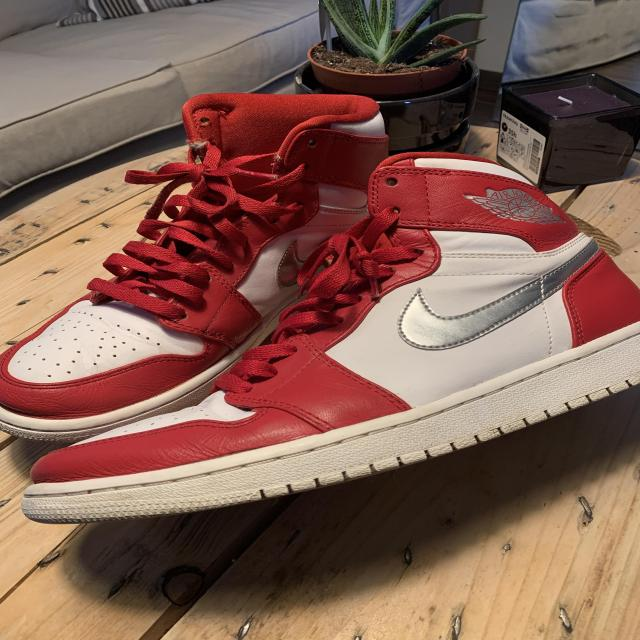shoe: (21, 151, 640, 523), (0, 93, 394, 441)
